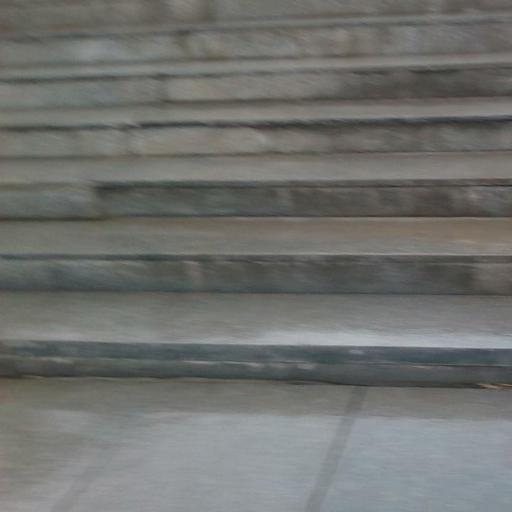stairs: (0, 0, 511, 383)
